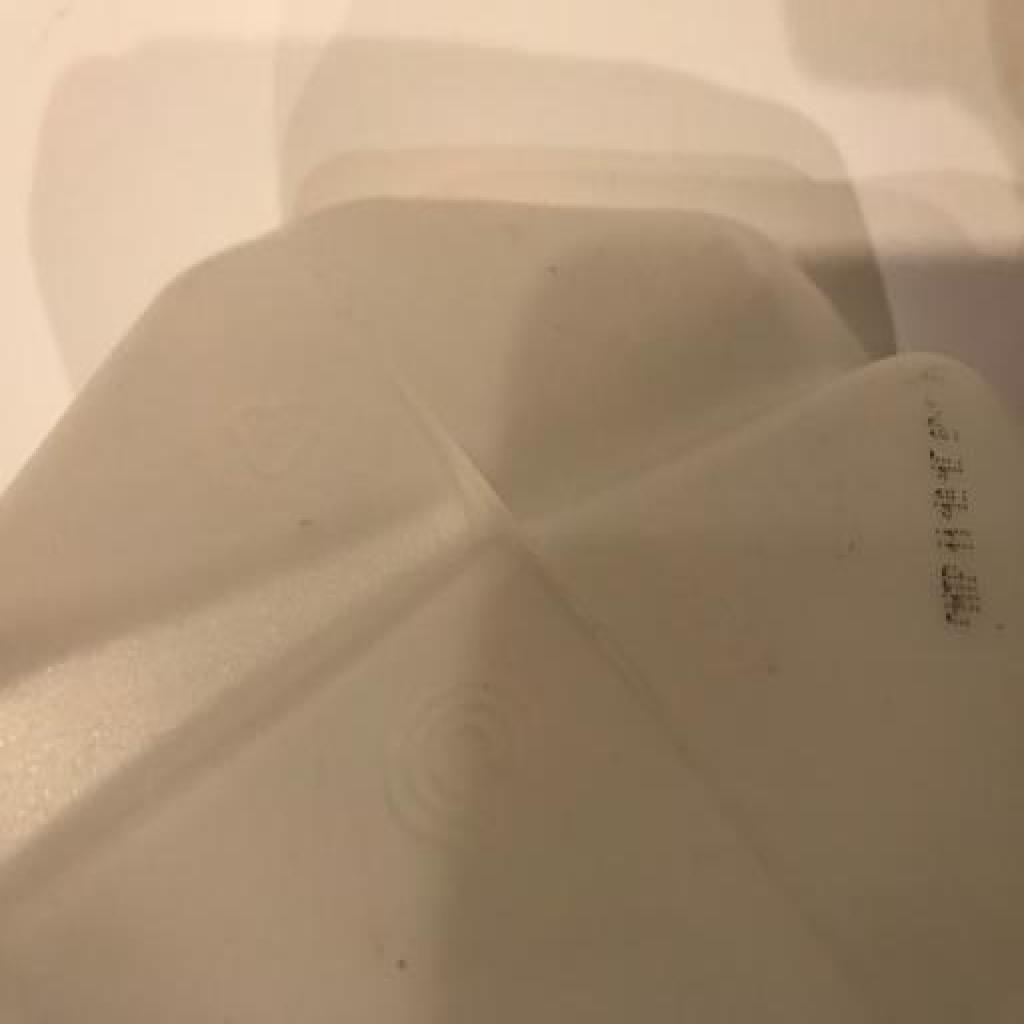organico: (4, 119, 1024, 1019)
